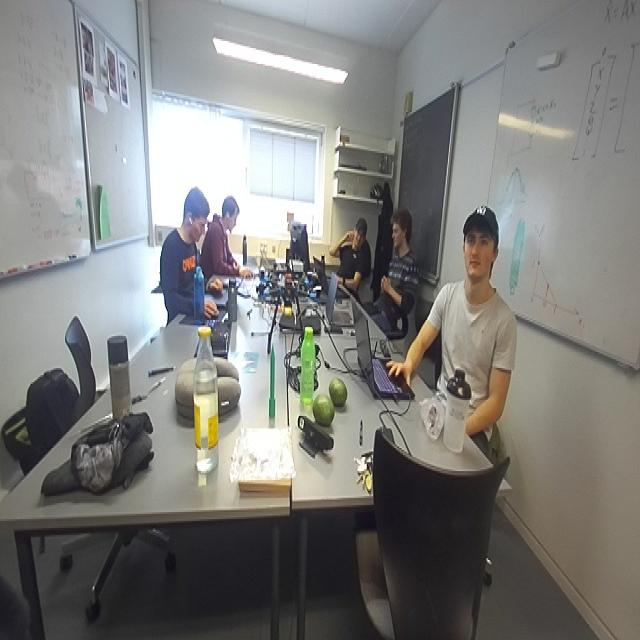probe: (268, 343, 275, 427)
